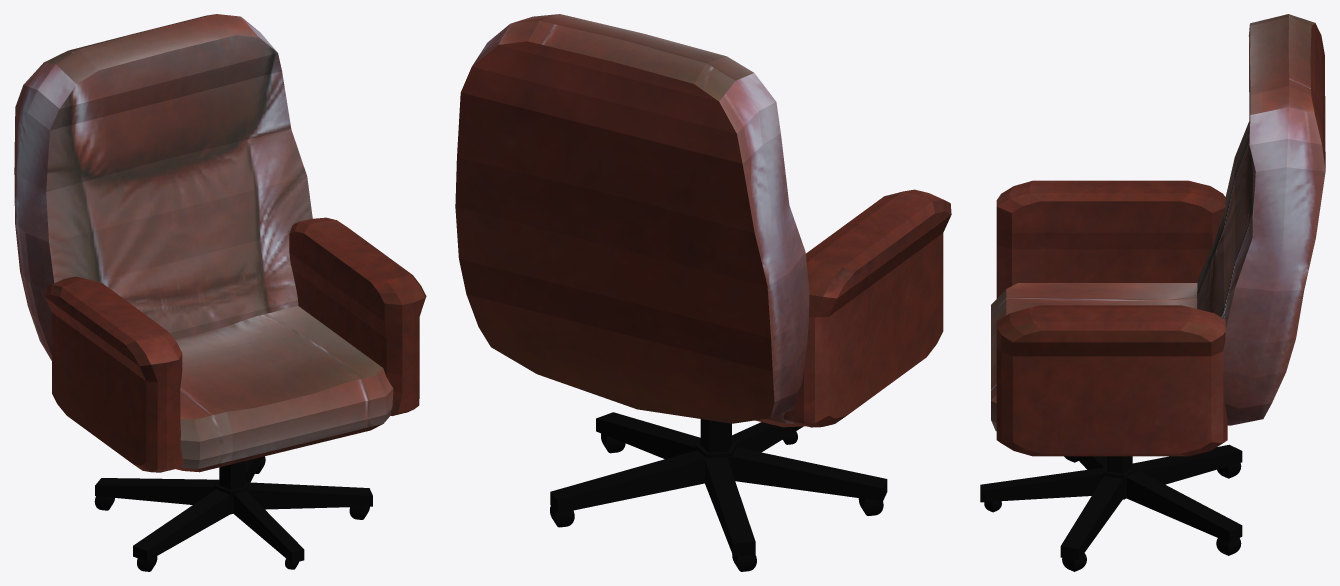
File: bosschair.gltf
3 renders of one model, left to right at view 1: azimuth 30°, elevation 25°; view 2: azimuth 150°, elevation 25°; view 3: azimuth 270°, elevation 25°, orthographic. The views are drawn at different scales.
Parts seen in each view (by area): view 1: Cube; view 2: Cube; view 3: Cube.
Part boxes in pixels (x1=…): Cube: x1=14, y1=14, x2=426, y2=571; Cube: x1=455, y1=14, x2=951, y2=571; Cube: x1=980, y1=14, x2=1325, y2=571.
Bounding box in the file's own units: 0.7179 × 1.05 × 0.7101.
1 material, 1 textured.
